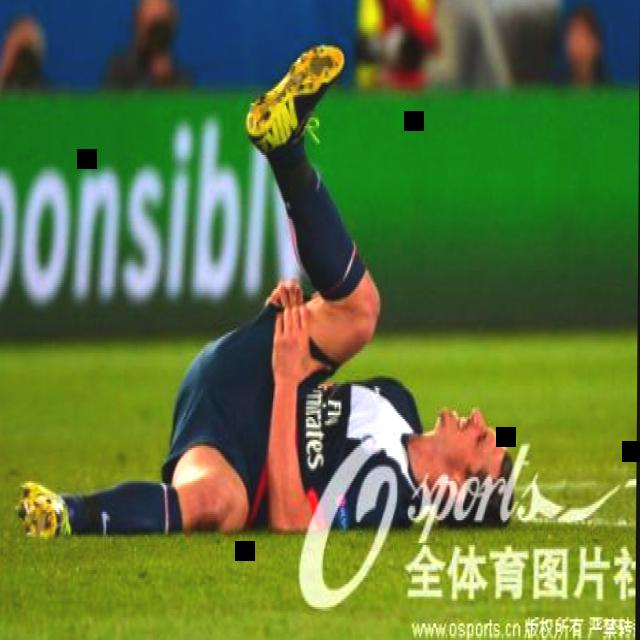Fall-Detected: (4, 10, 552, 564)
